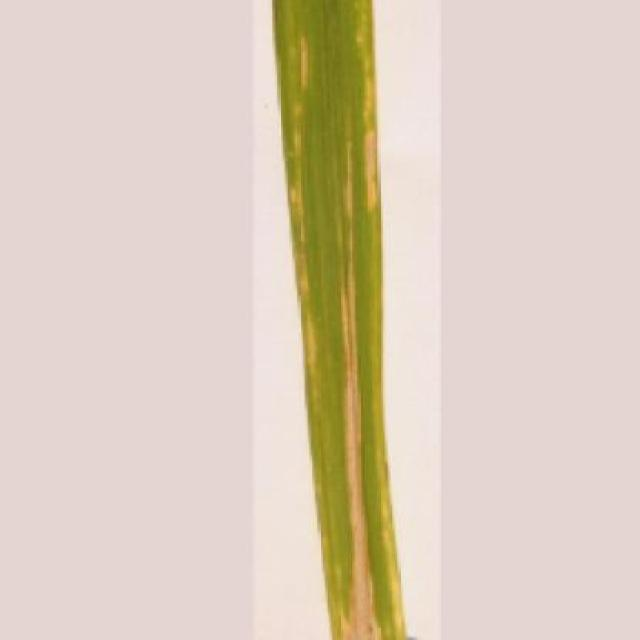Brown_Spot: (262, 0, 416, 640)
